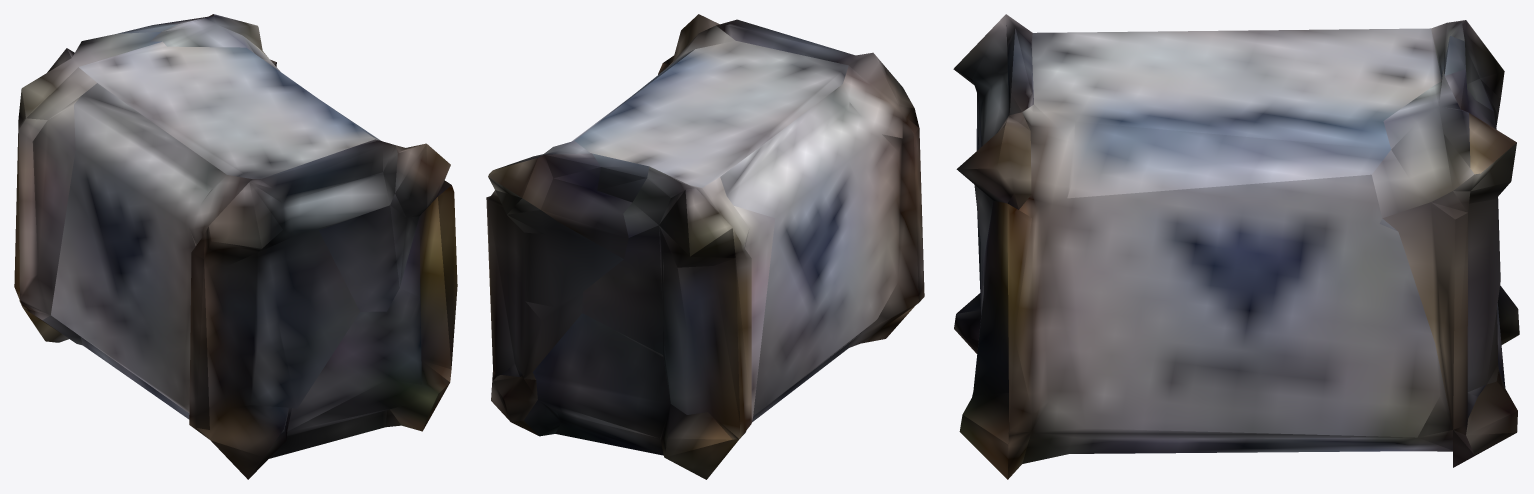
File: crate_a.glb
The picture shows the model from 3 angles, left to right: view 1: azimuth 30°, elevation 25°; view 2: azimuth 150°, elevation 25°; view 3: azimuth 270°, elevation 25°; orthographic projection. The views are drawn at different scales.
Parts seen in each view (by area): view 1: crate_a; view 2: crate_a; view 3: crate_a.
Part boxes in pixels (x1,y1,x2,y2): crate_a: [14, 14, 457, 479]; crate_a: [486, 14, 924, 479]; crate_a: [953, 14, 1519, 479].
Size of the model in its own units: 0.0761 by 0.0817 by 0.1139.
Materials: 1 (1 with a texture image).
